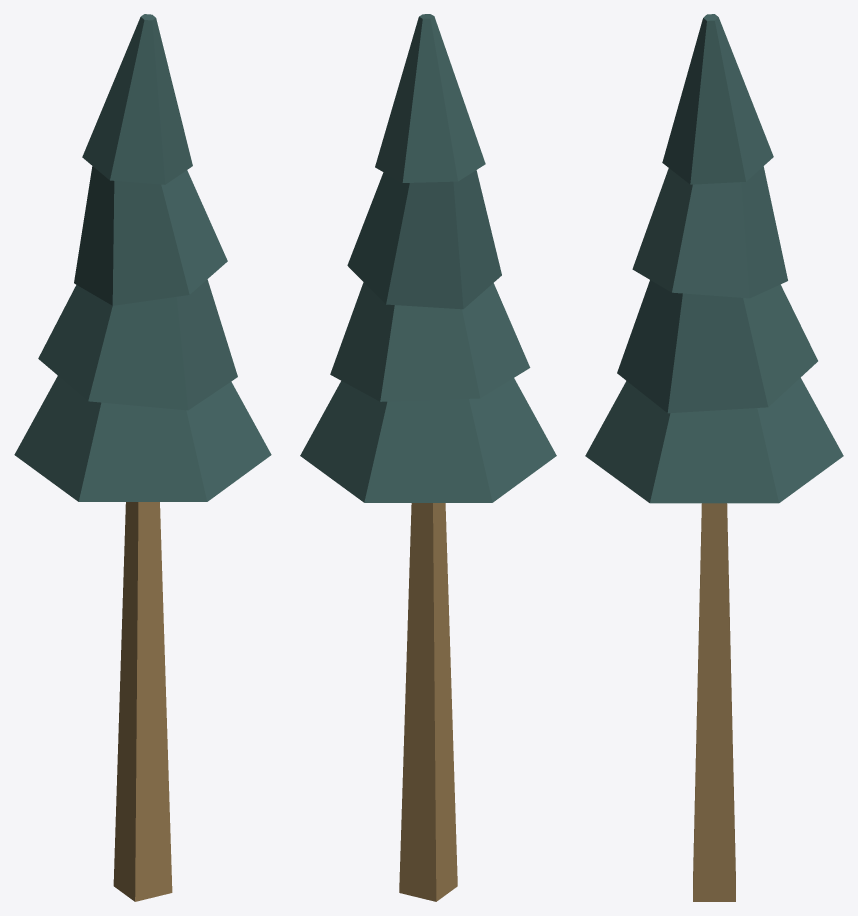
Rendered from naturePack_159.fbx.
The picture shows the model from 3 angles, left to right: view 1: azimuth 30°, elevation 25°; view 2: azimuth 150°, elevation 25°; view 3: azimuth 270°, elevation 25°; orthographic projection.
Visible parts, largest first — view 1: Mesh1_Group1 Model; view 2: Mesh1_Group1 Model; view 3: Mesh1_Group1 Model.
Boxes of the visible parts, x1,y1,x2,y2 form: Mesh1_Group1 Model: [14, 14, 271, 901]; Mesh1_Group1 Model: [300, 14, 556, 901]; Mesh1_Group1 Model: [585, 14, 843, 901].
Size of the model in its own units: 1.92 by 8.31 by 2.22.
